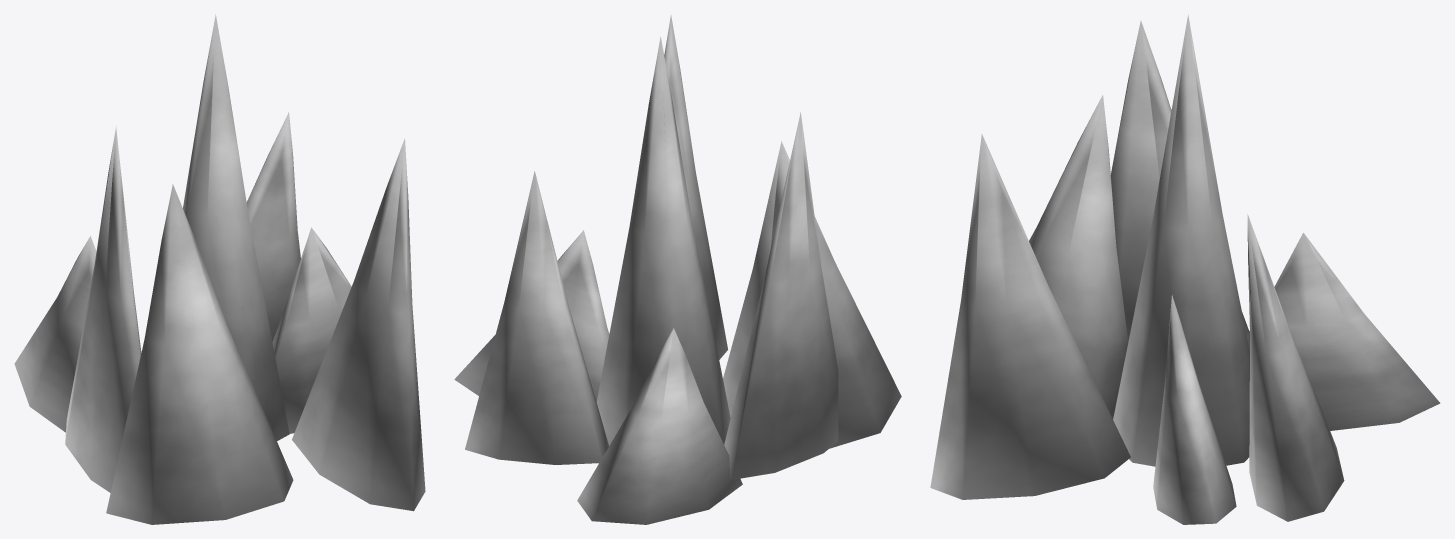
File: Spike.glb
The picture shows the model from 3 angles, left to right: view 1: azimuth 30°, elevation 25°; view 2: azimuth 150°, elevation 25°; view 3: azimuth 270°, elevation 25°; orthographic projection. The views are drawn at different scales.
Visible parts, largest first — view 1: Spike; view 2: Spike; view 3: Spike.
Boxes of the visible parts, box(x1,y1,x2,y2) form: Spike: box(14, 14, 425, 524); Spike: box(454, 15, 901, 524); Spike: box(930, 14, 1440, 524).
Bounding box in the file's own units: 0.5399 × 0.5971 × 0.6253.
Materials: 1 (1 with a texture image).
